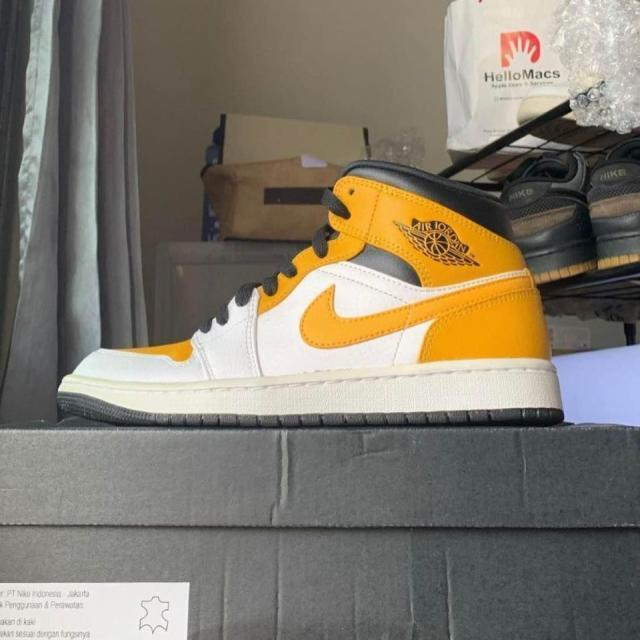nike original jordan 1: (54, 160, 568, 435)
